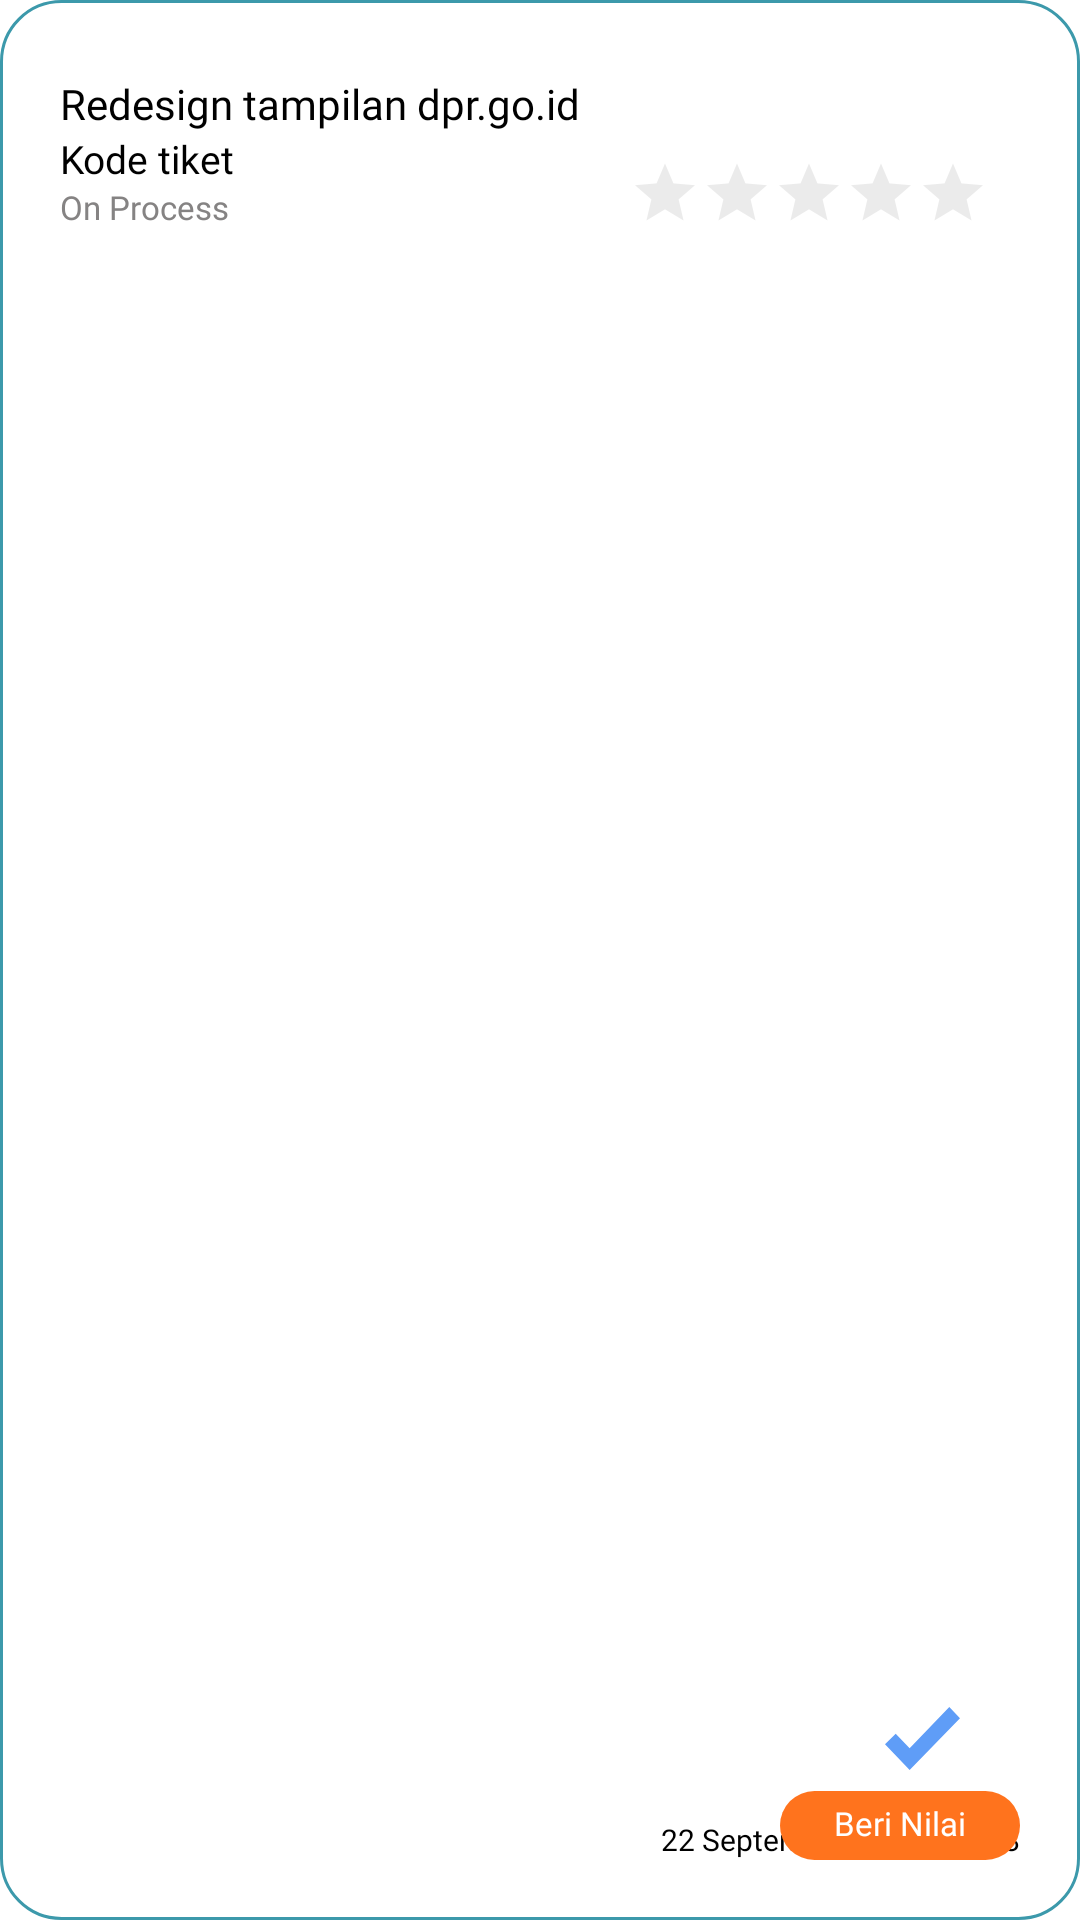

Icons on this 1080 x 1920 Android screen, each with its box as bbox(x1, y1, x2, y2):
success: bbox(885, 1707, 960, 1770)
